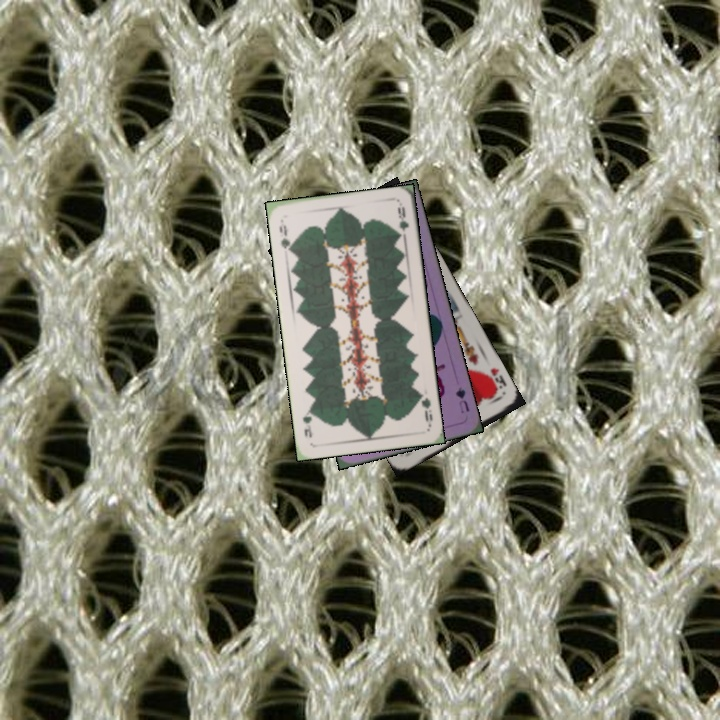G9: (415, 388, 435, 428), (275, 215, 295, 255)
GU: (451, 383, 472, 416)
HK: (480, 364, 509, 395)
